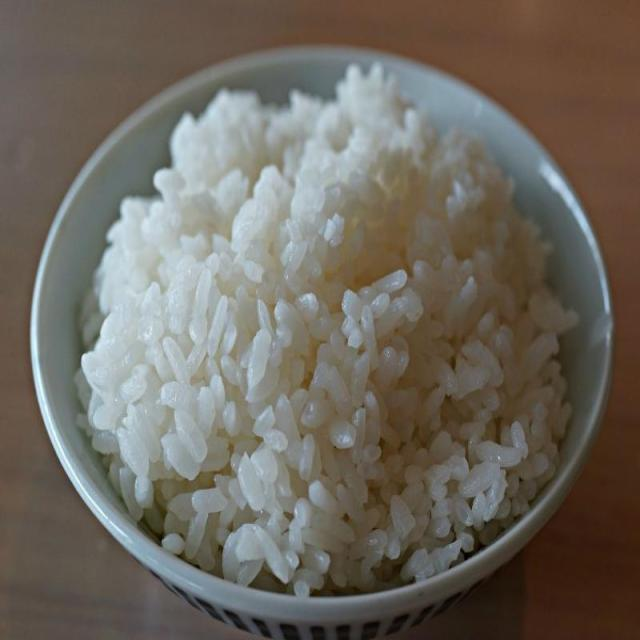nasi_putih: (71, 64, 581, 601)
